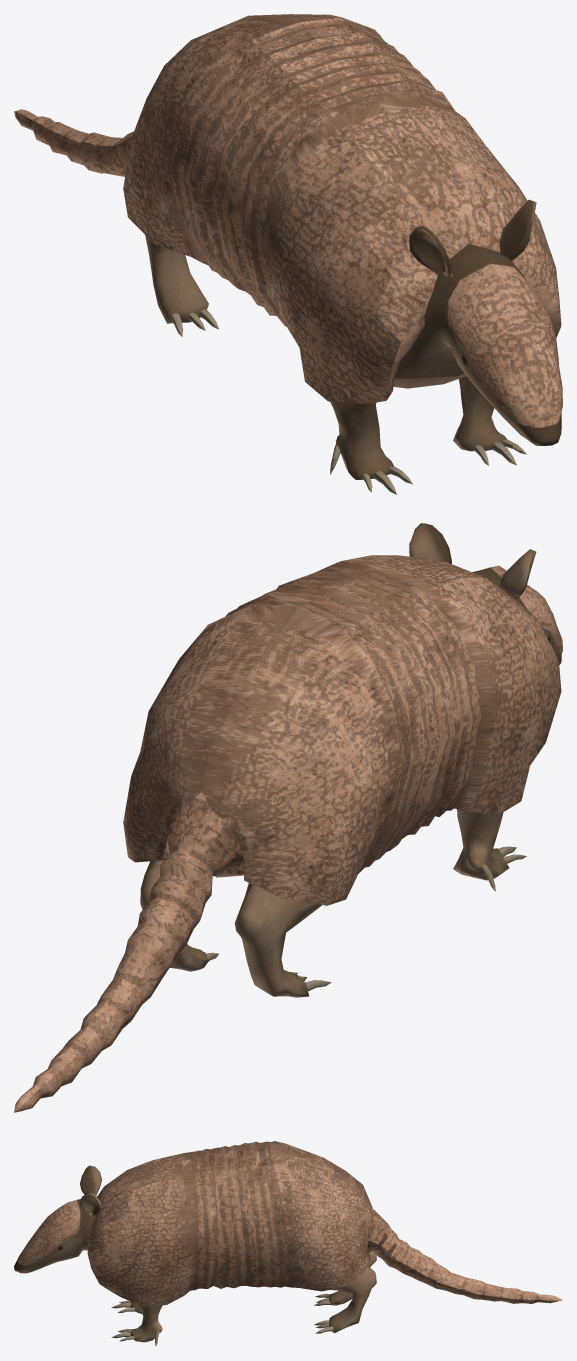
Rendered from Armadillo.fbx.
3 renders of one model, top to bottom at view 1: azimuth 30°, elevation 25°; view 2: azimuth 150°, elevation 25°; view 3: azimuth 270°, elevation 25°, orthographic. The views are drawn at different scales.
Parts seen in each view (by area): view 1: Shield1, Body, Tail; view 2: Shield1, Tail, Body; view 3: Shield1, Body, Tail.
Part boxes in pixels (<box>): Shield1: <box>123,14,561,403</box>; Body: <box>145,199,562,479</box>; Tail: <box>14,109,526,494</box>; Shield1: <box>123,555,561,905</box>; Tail: <box>14,792,526,1112</box>; Body: <box>140,523,562,997</box>; Shield1: <box>87,1141,373,1306</box>; Body: <box>14,1165,376,1342</box>; Tail: <box>111,1207,562,1346</box>.
Bounding box in the file's own units: 26932 × 37307 × 104256.
Materials: 3 (3 with a texture image).
